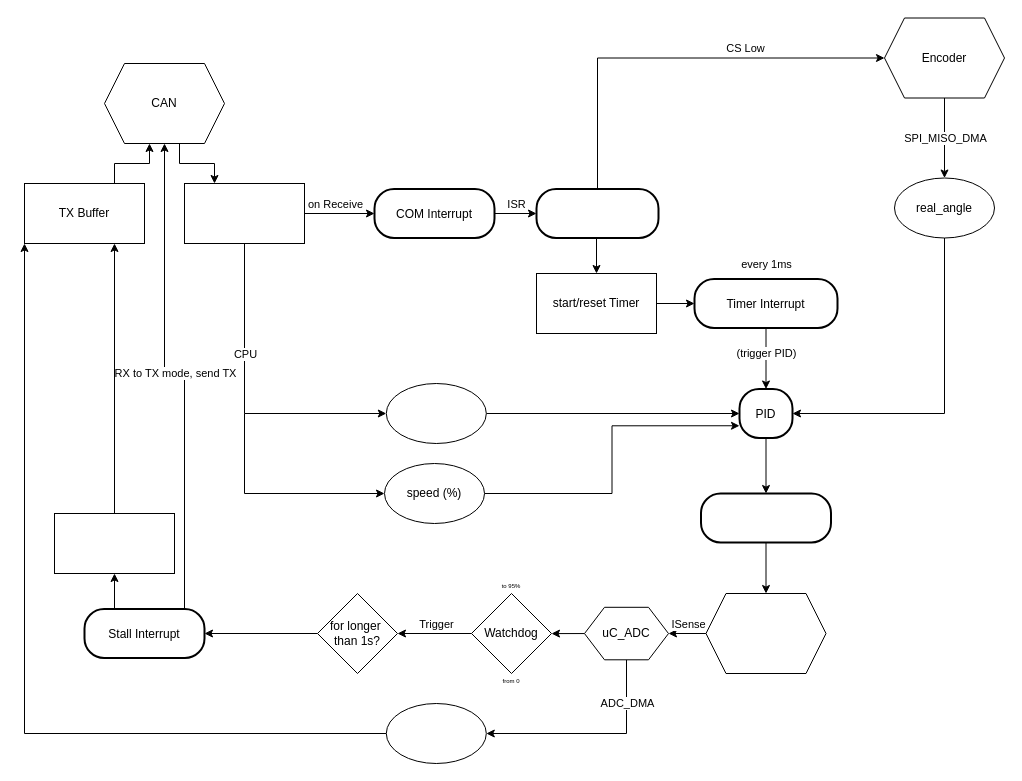
Image size: 1022x781. Some labels were removed from this diagram. Here are the shapes that lost their labels. From the top down, the centre of each, then its label:
the point at 244,213: RX Buffer
the point at 597,213: Control Loop
the point at 435,413: target_angle
the point at 766,517: Motor Control
the point at 114,543: log Error
the point at 765,633: Driver
the point at 435,733: Current Value
